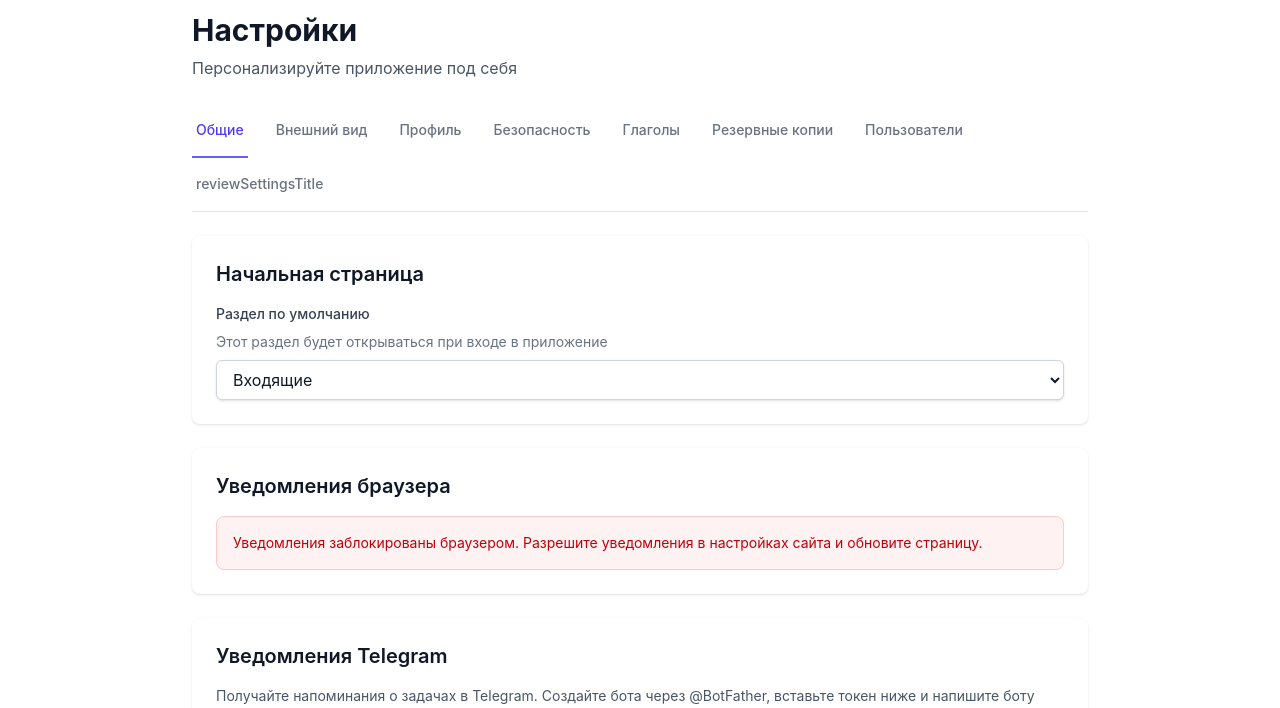
Test: Settings › theme switching › renders theme options
Click the button "Внешний вид".
click(322, 131)  # box [272, 104, 371, 158]
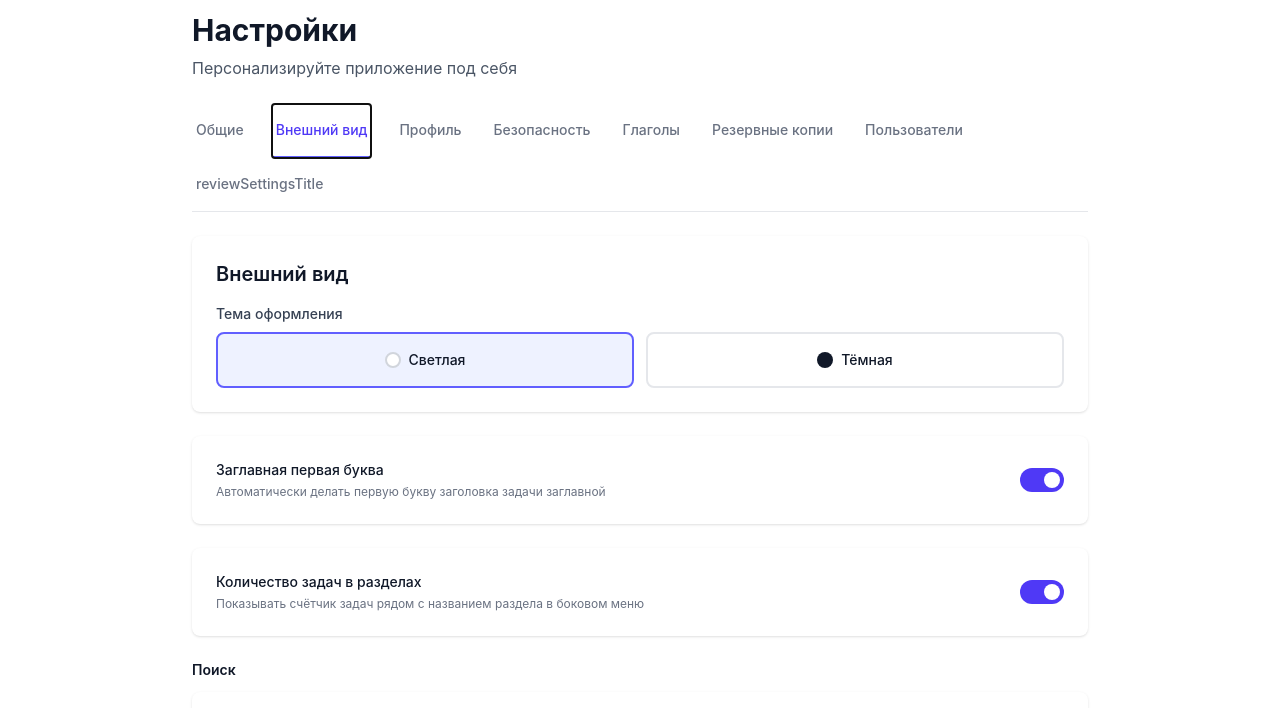
expect the text "Тема оформления" is shown: met, box [216, 305, 343, 322]
expect the button "Светлая" is shown: met, box [216, 332, 634, 388]
expect the button "Тёмная" is shown: met, box [646, 332, 1064, 388]
